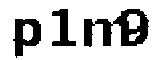1: (47, 6, 79, 50)
9: (121, 7, 152, 49)
m: (82, 17, 130, 51)
p: (10, 13, 42, 58)
